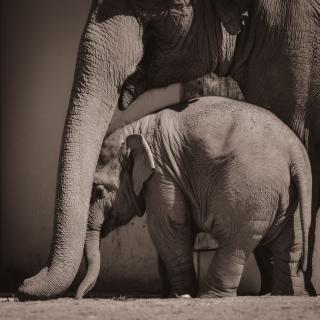Elephant: (14, 0, 320, 304), (78, 95, 319, 320)
